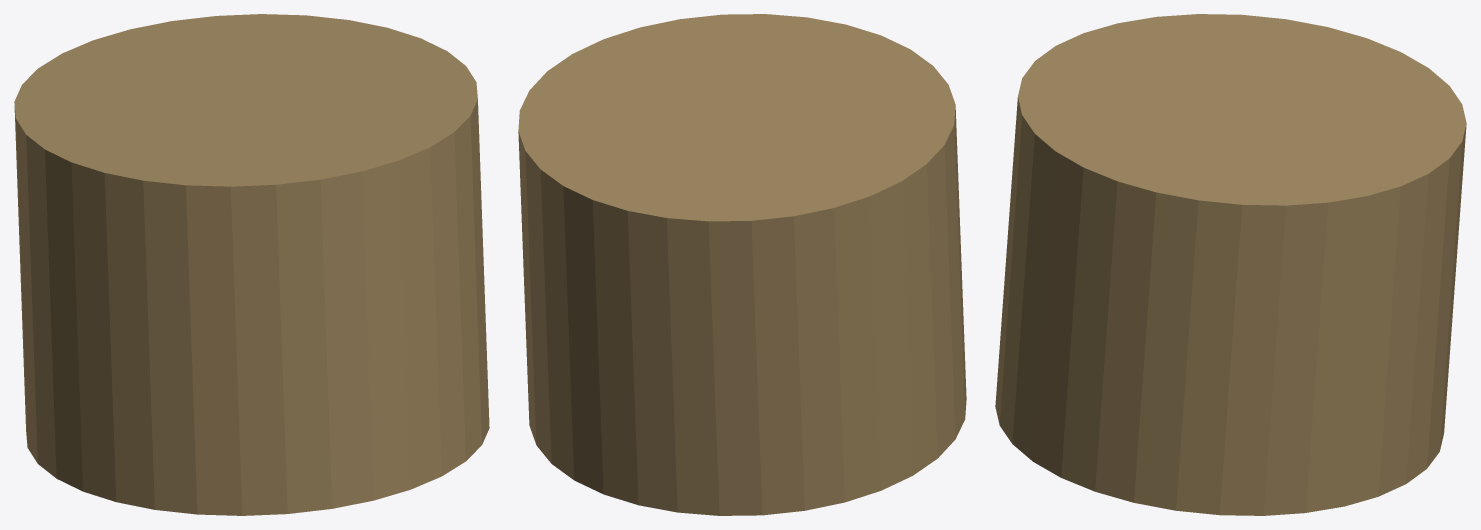
The model's file is left_shoulder_x_link_visual_5.obj.full.glb.
3 renders of one model, left to right at view 1: azimuth 30°, elevation 25°; view 2: azimuth 150°, elevation 25°; view 3: azimuth 270°, elevation 25°, orthographic. The views are drawn at different scales.
Bounding box in the file's own units: 0.0716 × 0.0592 × 0.075.
